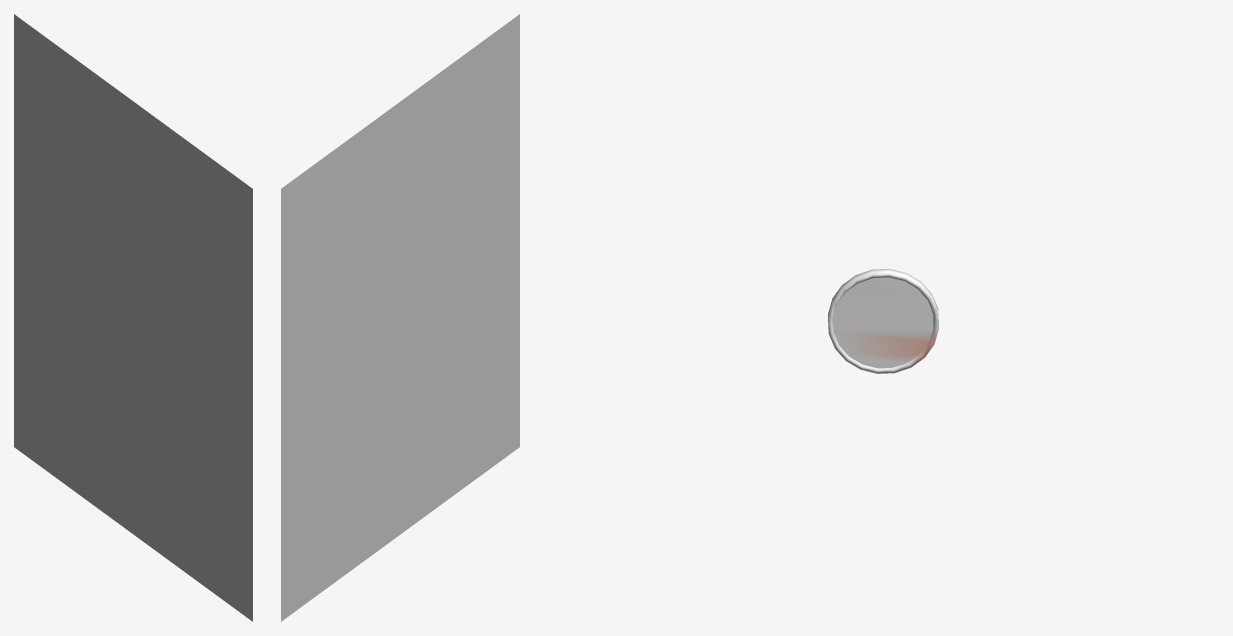
The model's file is Clock_for_CYCLES.glb.
3 views of the same model, side by side, from view 1: azimuth 30°, elevation 25°; view 2: azimuth 150°, elevation 25°; view 3: azimuth 270°, elevation 25° (orthographic). The views are drawn at different scales.
Parts seen in each view (by area): view 1: Plane; view 2: Plane; view 3: Circle.000, Circle.016.
Part boxes in pixels (x1,y1,x2,y2): Plane: (14,14,252,621); Plane: (281,14,519,621); Circle.000: (832,277,933,368); Circle.016: (828,268,938,373).
Bounding box in the file's own units: 0.1068 × 5.42 × 5.42.
